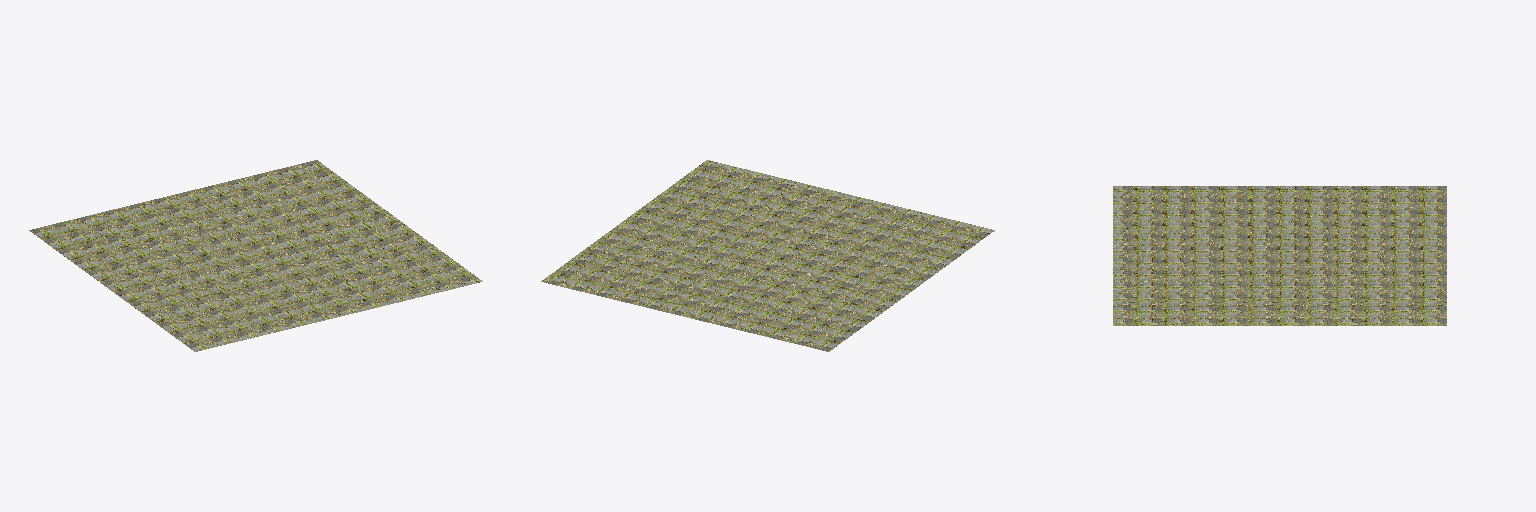
3 views of the same model, side by side, from view 1: azimuth 30°, elevation 25°; view 2: azimuth 150°, elevation 25°; view 3: azimuth 270°, elevation 25° (orthographic).
Parts seen in each view (by area): view 1: Piso:pPlane1; view 2: Piso:pPlane1; view 3: Piso:pPlane1.
Part boxes in pixels (x1,y1,x2,y2): Piso:pPlane1: (29, 160, 482, 351); Piso:pPlane1: (541, 160, 994, 351); Piso:pPlane1: (1113, 186, 1446, 325).
Size of the model in its own units: 100 by 0 by 100.
Materials: 1 (1 with a texture image).